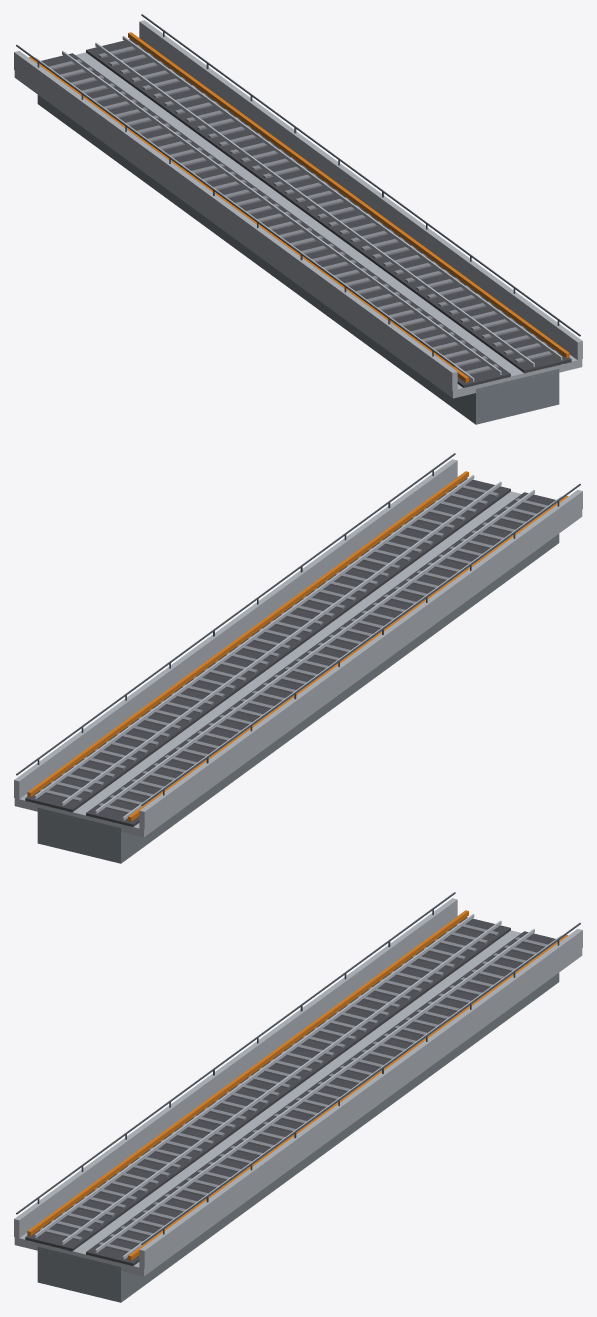
The model's file is env_lrt_viaduct_deck.obj.
3 renders of one model, top to bottom at view 1: azimuth 30°, elevation 25°; view 2: azimuth 150°, elevation 25°; view 3: azimuth 330°, elevation 25°, orthographic.
Visible parts, largest first — view 1: env_lrt_viaduct_deck; view 2: env_lrt_viaduct_deck; view 3: env_lrt_viaduct_deck.
Part boxes in pixels (bbox=[...]): env_lrt_viaduct_deck: bbox=[14, 14, 582, 424]; env_lrt_viaduct_deck: bbox=[14, 453, 582, 863]; env_lrt_viaduct_deck: bbox=[14, 892, 582, 1302].
Bounding box in the file's own units: 6.88 × 3.23 × 40.
